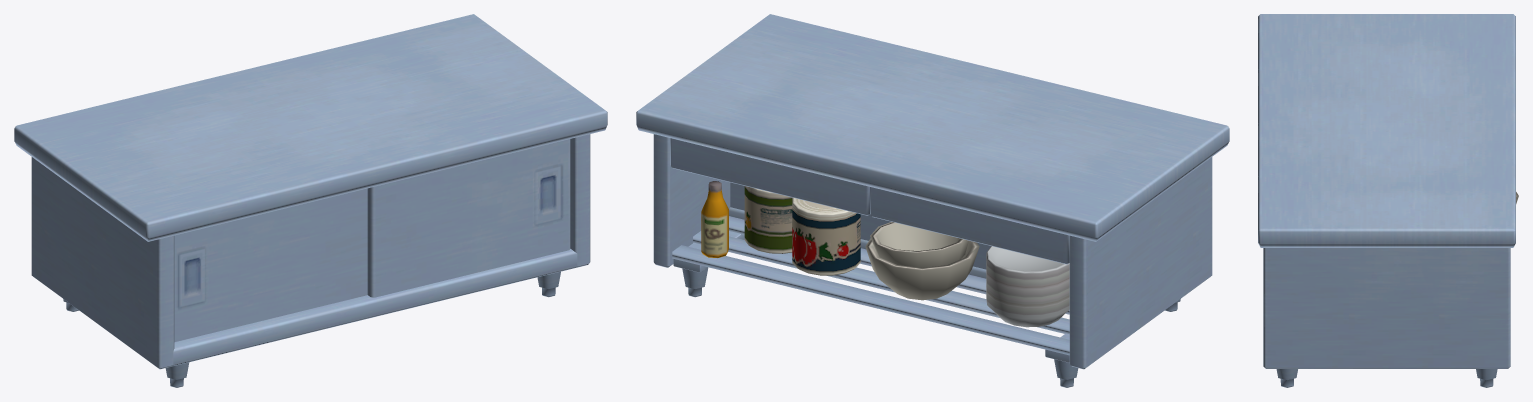
Rendered from tablestainess.glb.
The picture shows the model from 3 angles, left to right: view 1: azimuth 30°, elevation 25°; view 2: azimuth 150°, elevation 25°; view 3: azimuth 270°, elevation 25°; orthographic projection. The views are drawn at different scales.
Visible parts, largest first — view 1: FtrTableStainless__mBody; view 2: FtrTableStainless__mBody, FtrTableStainless__mCan; view 3: FtrTableStainless__mBody.
Boxes of the visible parts, x1,y1,x2,y2 form: FtrTableStainless__mBody: [14, 14, 607, 387]; FtrTableStainless__mBody: [636, 14, 1229, 387]; FtrTableStainless__mCan: [744, 186, 860, 275]; FtrTableStainless__mBody: [1258, 14, 1518, 387].
Bounding box in the file's own units: 19.21 × 7.3 × 9.78.
2 materials, 2 textured.
